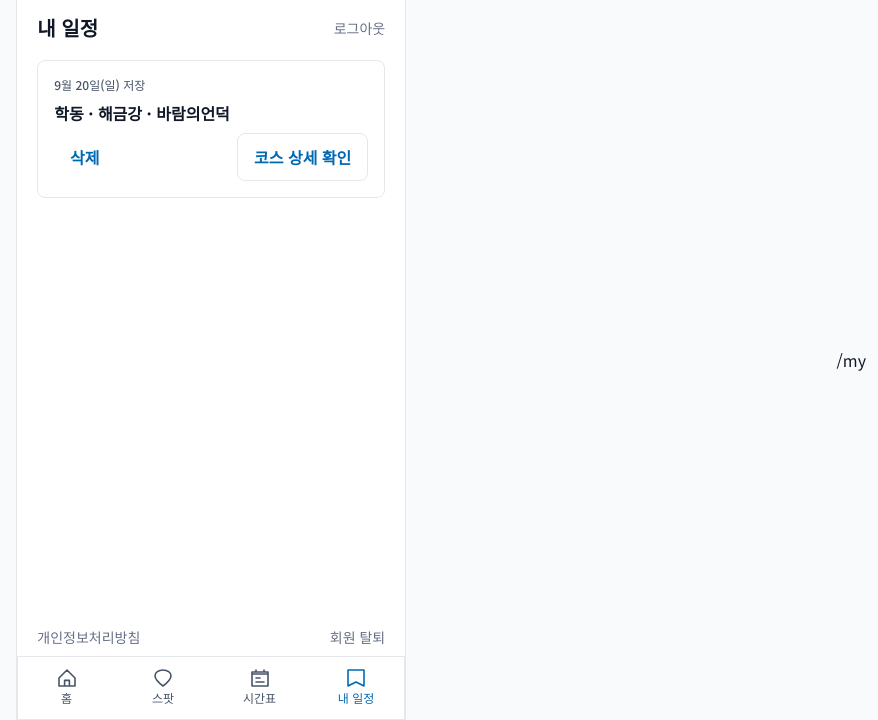
Test case: MyPlansPage — 회원 탈퇴와 개인정보처리방침 (2026-09-16) › 탈퇴에 실패하면 이유를 말하고 로그인 상태를 유지한다
The width and height of the screenshot is (878, 720).
Click the button "회원 탈퇴": click(358, 638) [330,627,385,648]
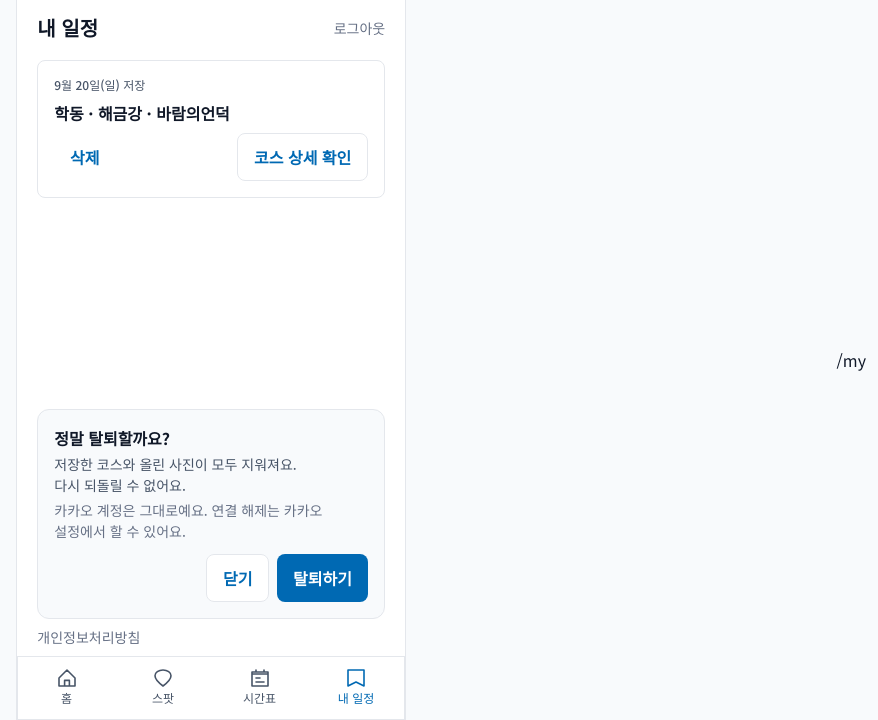
Click the button "탈퇴하기": click(323, 578) [277,554,368,602]
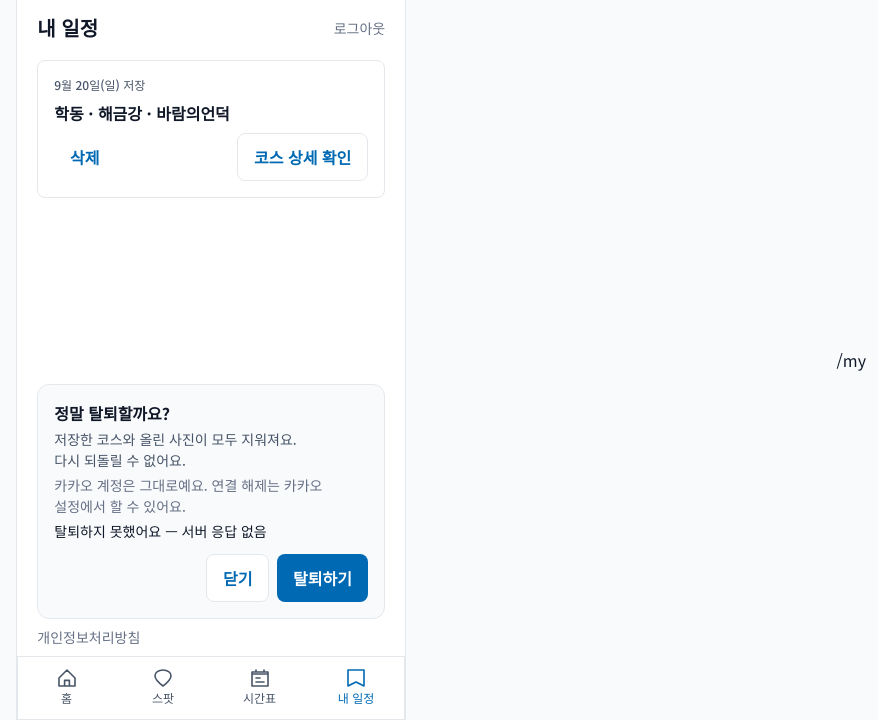
Now the text "탈퇴하지 못했어요 — 서버 응답 없음" is shown, box [54,521,267,541]
